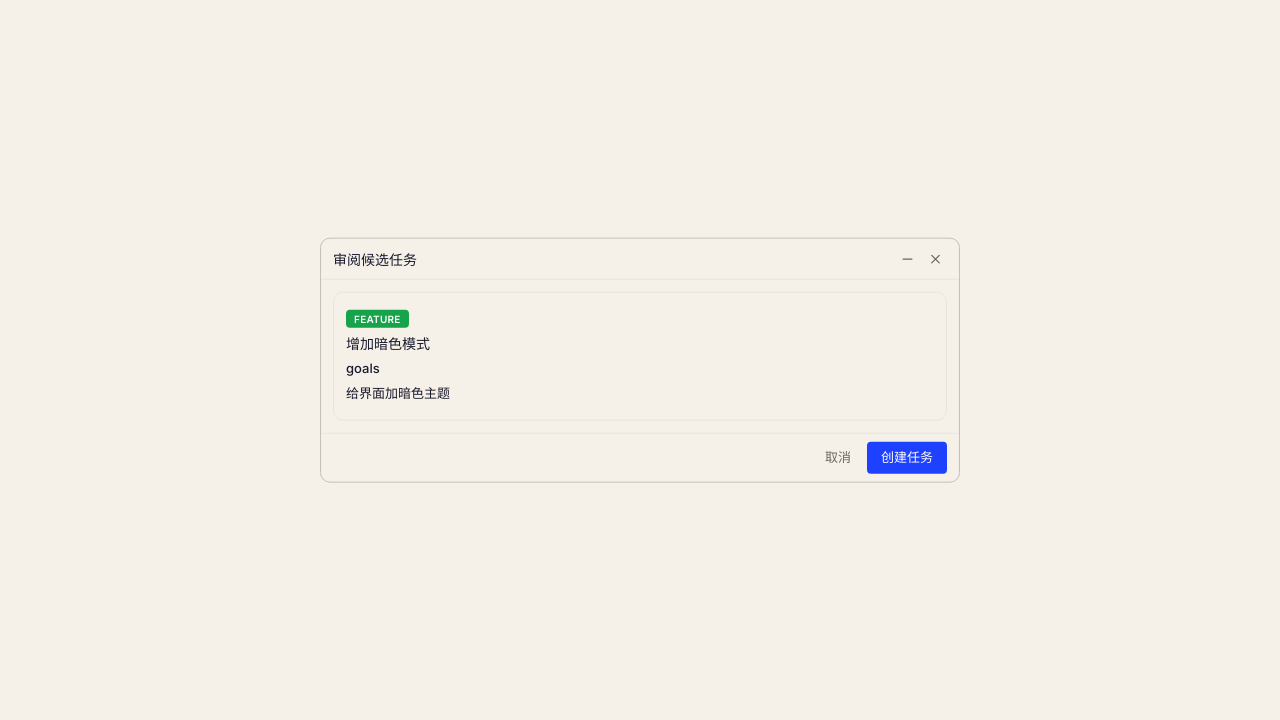
Test case: 审阅候选任务窗 › 详情视图不显示「取消/创建任务」；标题栏 chevron 返回候选列表后才可创建
Expected: the button "创建任务" is shown, 867,442 -> 947,473
进详情：「取消/创建任务」消失
Click the text "增加暗色模式".
click(388, 343)  # box 346,335 -> 430,352
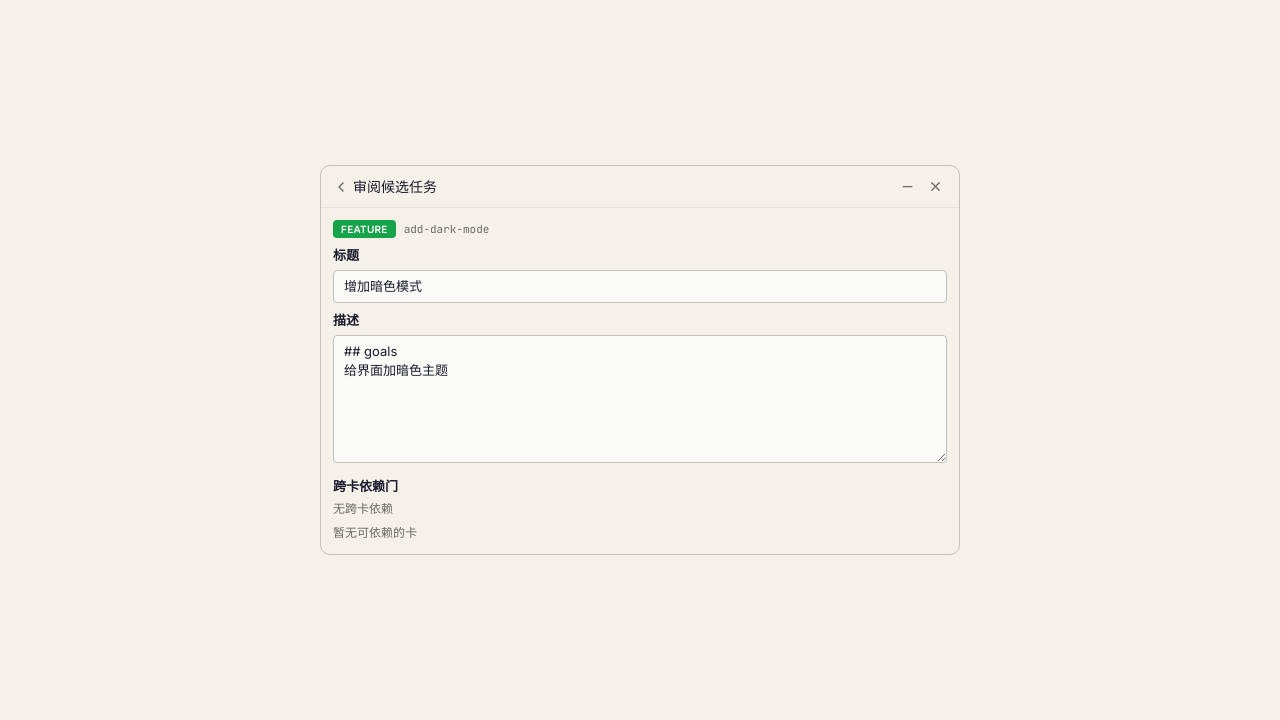
Now the button "创建任务" is gone
Now the button "取消" is gone
标题栏出现返回按钮（其可点文案为返回目的地「审阅候选任务」）
Click the button "审阅候选任务".
click(385, 186)  # box 329,174 -> 441,199
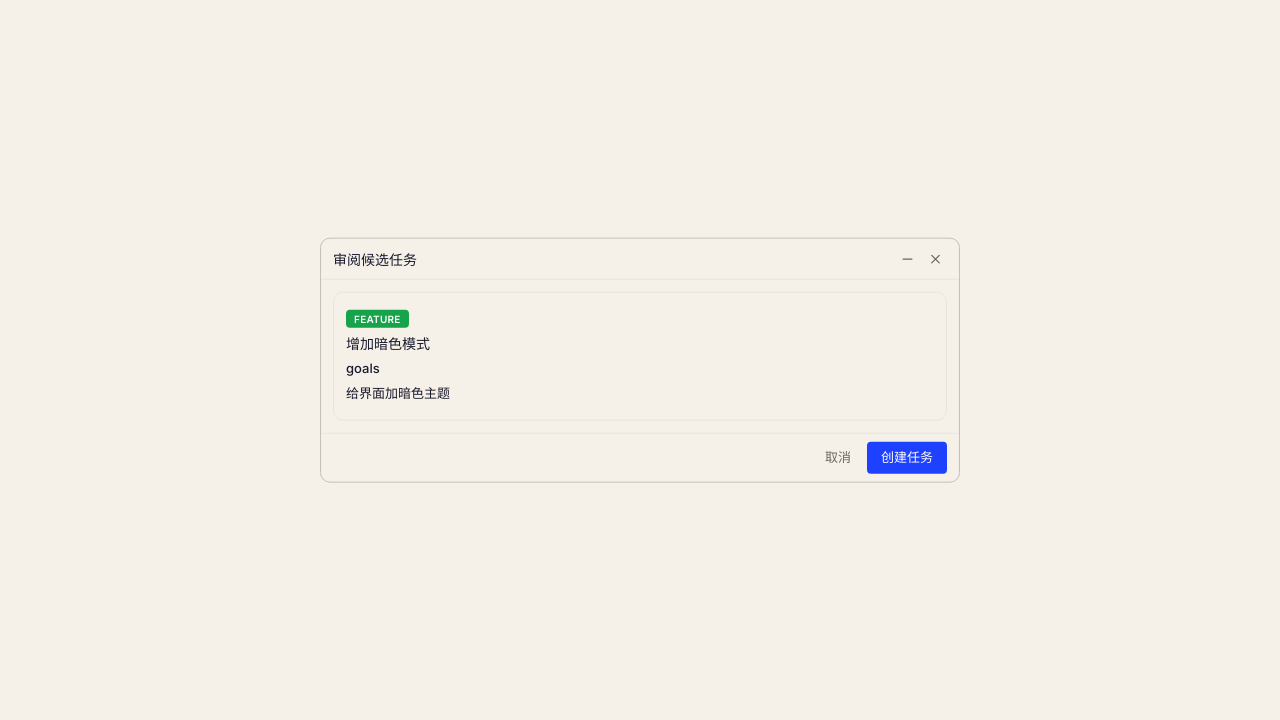
Now the button "创建任务" is shown, box 867,442 -> 947,473
